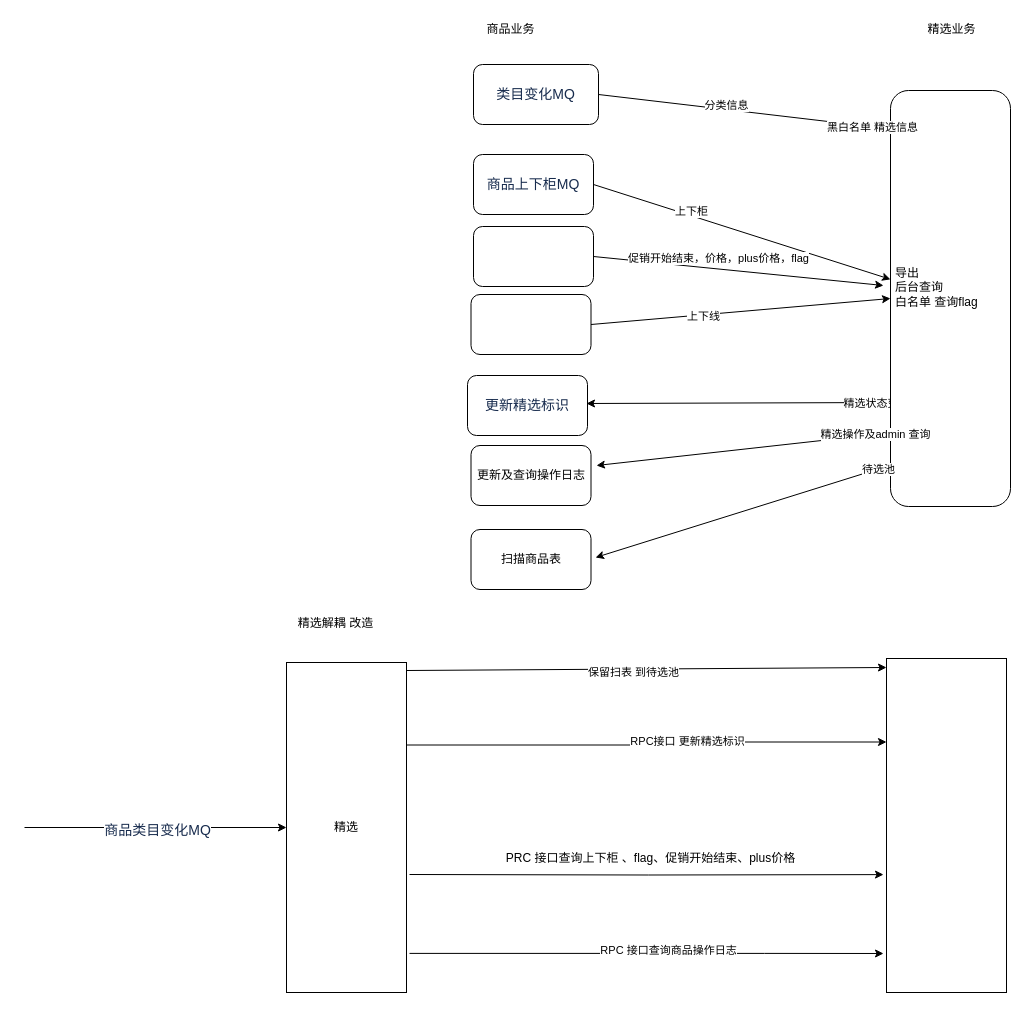
This 1028x1010 diagram has some shape labels left out. The centre of each missing label's shape, as x and y in pixels:
同步任务worker: the point at 533,256
商品: the point at 946,825
定时上下线worker: the point at 530,324
